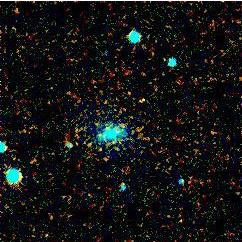star: (124, 89, 154, 119)
